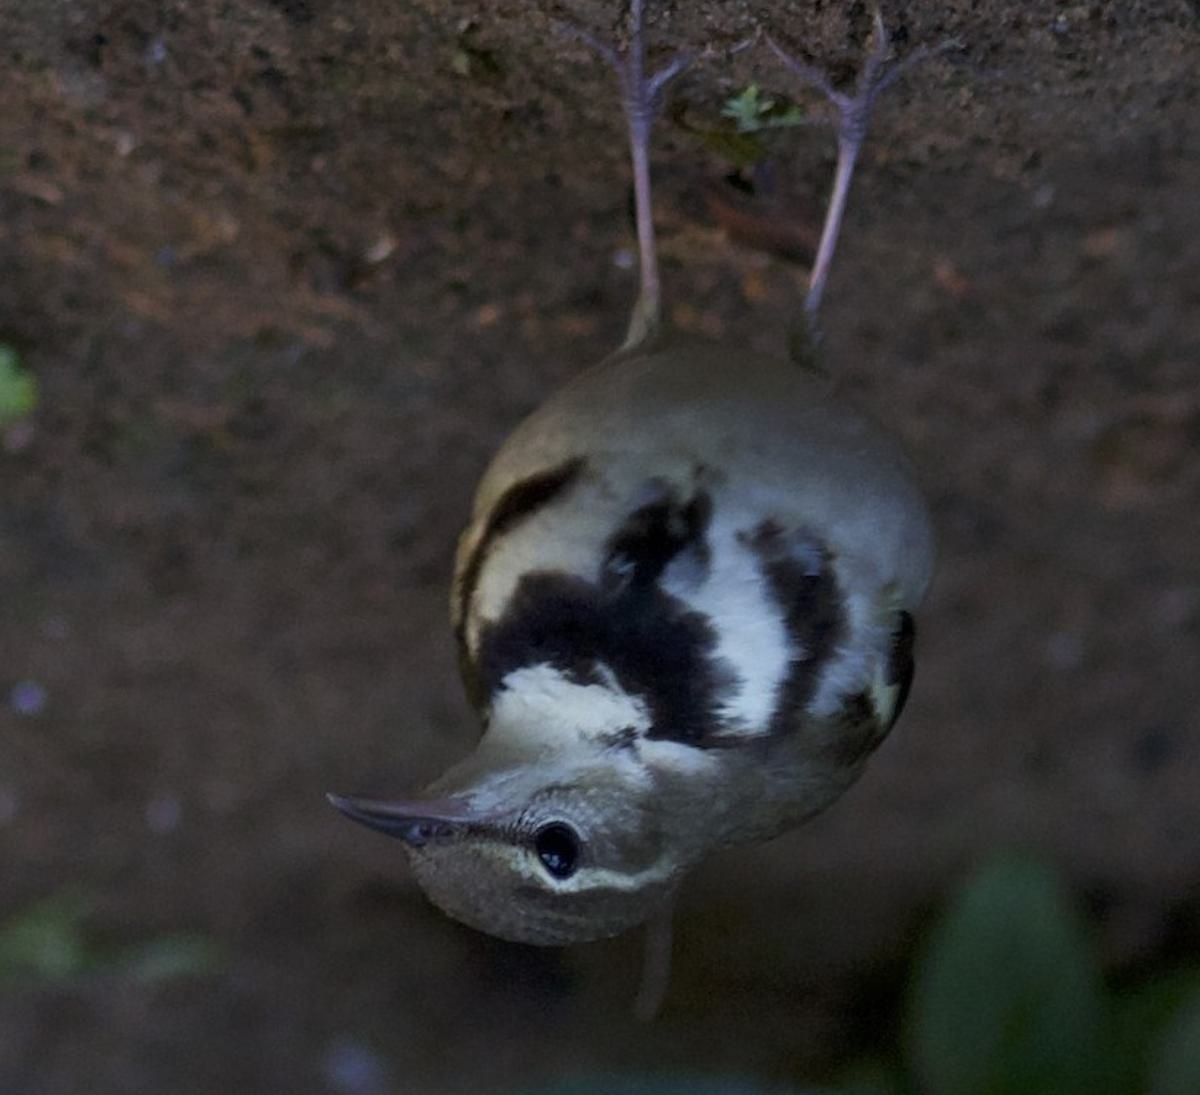wagtail: (344, 346, 878, 953)
